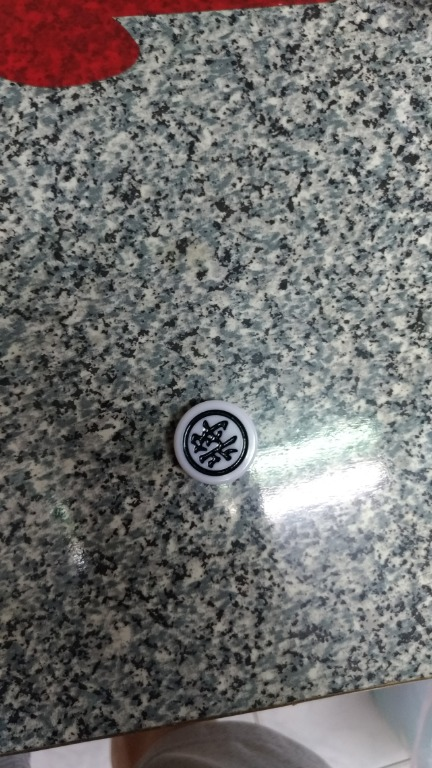b-king: (168, 388, 274, 495)
